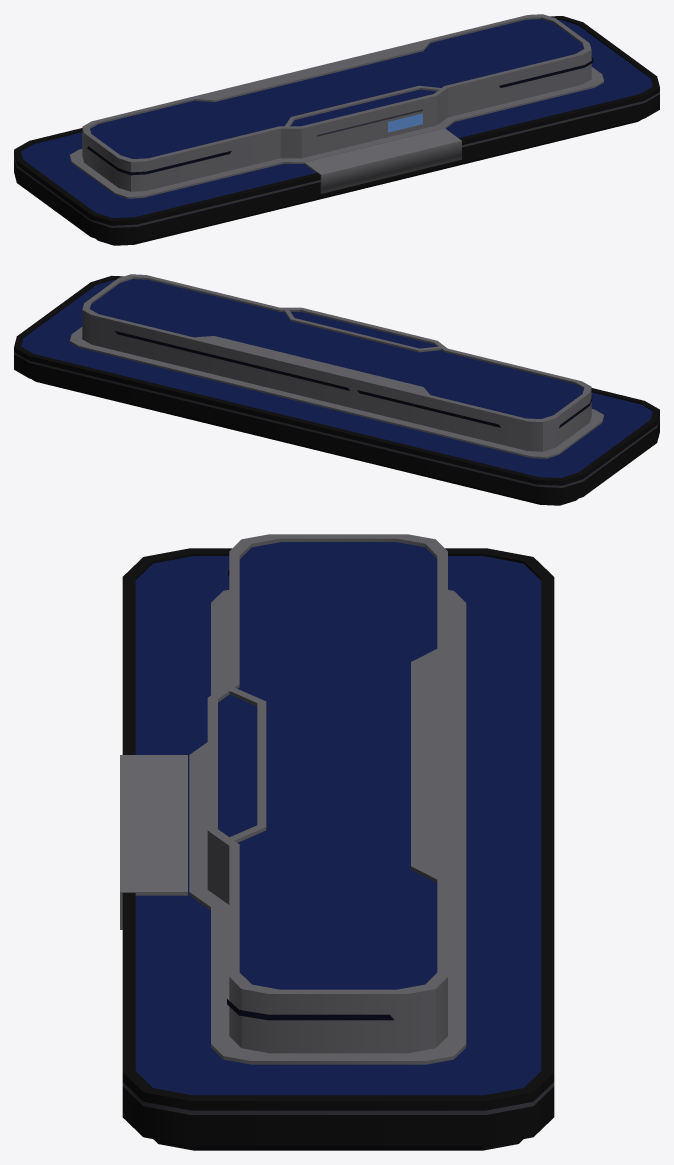
The model's file is W_O_Flowerbed_001_a_L1.fbx.
3 renders of one model, top to bottom at view 1: azimuth 30°, elevation 25°; view 2: azimuth 150°, elevation 25°; view 3: azimuth 270°, elevation 25°, orthographic. The views are drawn at different scales.
Visible parts, largest first — view 1: W_O_Flowerbed_001_a_L1; view 2: W_O_Flowerbed_001_a_L1; view 3: W_O_Flowerbed_001_a_L1.
Part boxes in pixels (left/top/right/bottom): W_O_Flowerbed_001_a_L1: left=14, top=14, right=659, bottom=245; W_O_Flowerbed_001_a_L1: left=14, top=274, right=659, bottom=505; W_O_Flowerbed_001_a_L1: left=120, top=534, right=554, bottom=1150.
Size of the model in its own units: 10 by 1 by 3.32.
